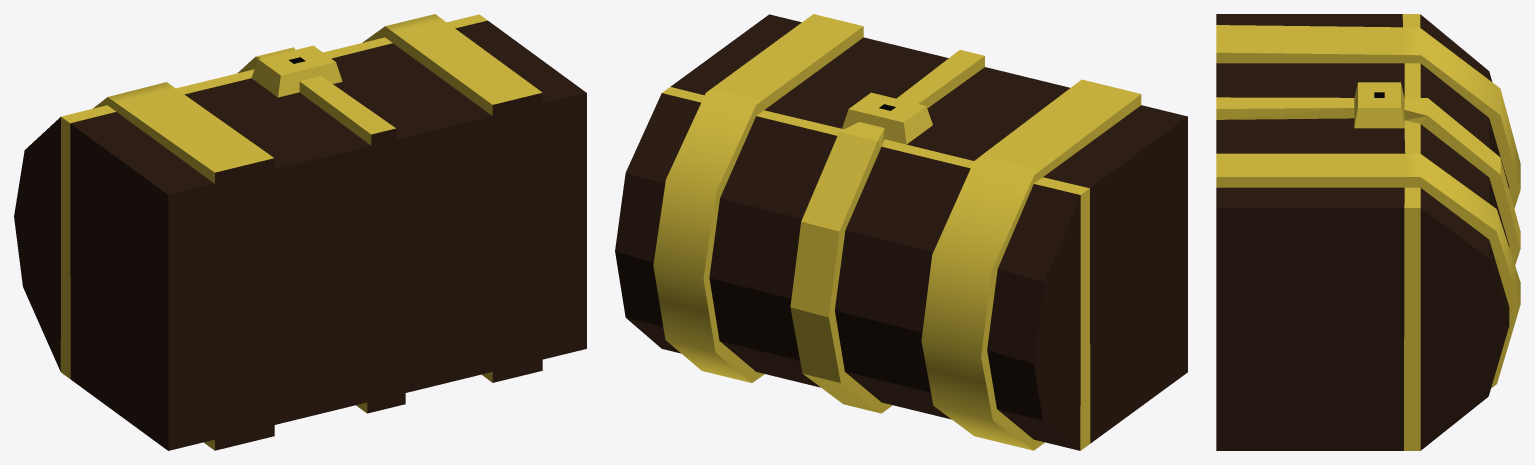
The model's file is cofre_modelo.fbx.
3 views of the same model, side by side, from view 1: azimuth 30°, elevation 25°; view 2: azimuth 150°, elevation 25°; view 3: azimuth 270°, elevation 25° (orthographic). The views are drawn at different scales.
Parts seen in each view (by area): view 1: Cube; view 2: Cube; view 3: Cube.
Part boxes in pixels (x1=…): Cube: x1=14, y1=14, x2=586, y2=450; Cube: x1=615, y1=14, x2=1187, y2=450; Cube: x1=1216, y1=14, x2=1520, y2=450.
Bounding box in the file's own units: 1.39 × 0.921 × 0.9078.
